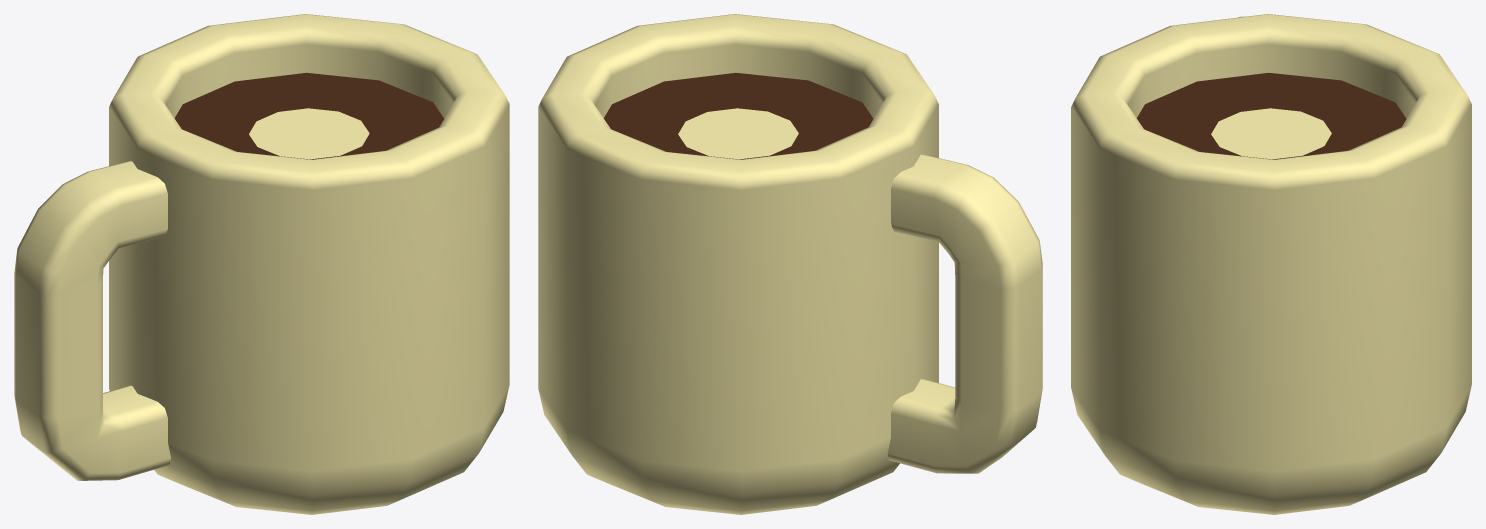
Rendered from SM_HotChocolate.fbx.
The picture shows the model from 3 angles, left to right: view 1: azimuth 30°, elevation 25°; view 2: azimuth 150°, elevation 25°; view 3: azimuth 270°, elevation 25°; orthographic projection.
Visible parts, largest first — view 1: SM_HotChocolate; view 2: SM_HotChocolate; view 3: SM_HotChocolate.
Part boxes in pixels (left/top/right/bottom): SM_HotChocolate: left=14, top=14, right=509, bottom=514; SM_HotChocolate: left=538, top=14, right=1042, bottom=514; SM_HotChocolate: left=1071, top=14, right=1471, bottom=514.
Bounding box in the file's own units: 29.06 × 21.89 × 21.88.
